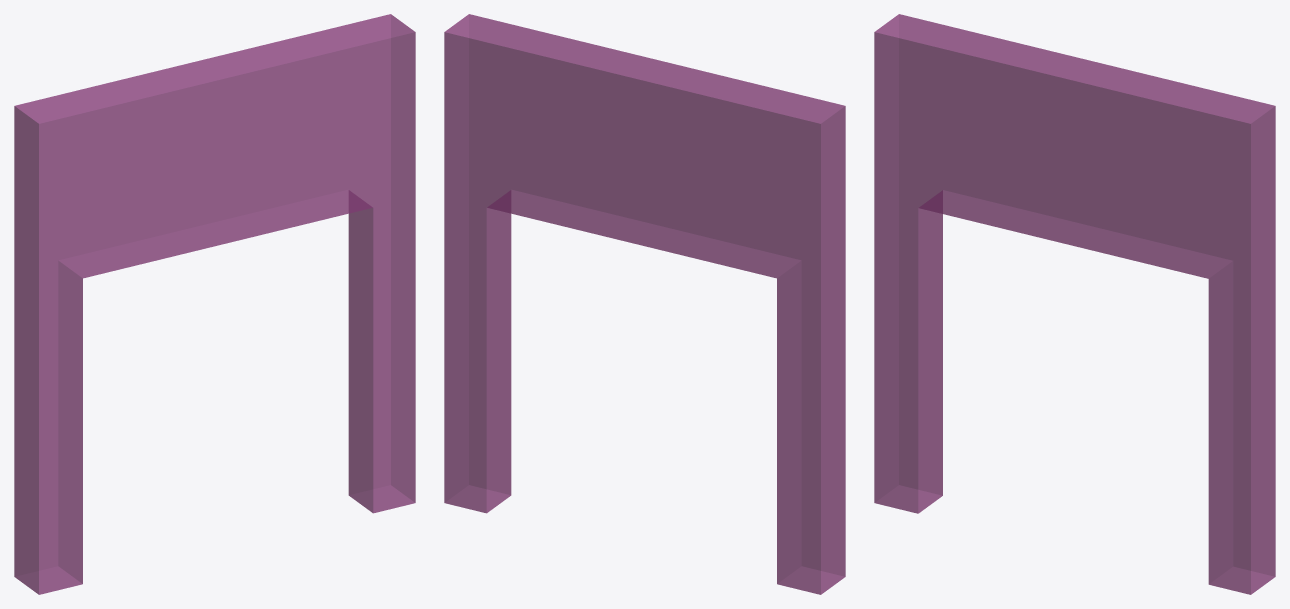
Rendered from SM_Bld_Base_Wall_Door_Double_01_Collision.fbx.
3 renders of one model, left to right at view 1: azimuth 30°, elevation 25°; view 2: azimuth 150°, elevation 25°; view 3: azimuth 330°, elevation 25°, orthographic.
Parts seen in each view (by area): view 1: SM_Bld_Base_Wall_Door_Double_01_Collision; view 2: SM_Bld_Base_Wall_Door_Double_01_Collision; view 3: SM_Bld_Base_Wall_Door_Double_01_Collision.
Part boxes in pixels (left/top/right/bottom): SM_Bld_Base_Wall_Door_Double_01_Collision: left=14, top=14, right=415, bottom=594; SM_Bld_Base_Wall_Door_Double_01_Collision: left=444, top=14, right=845, bottom=594; SM_Bld_Base_Wall_Door_Double_01_Collision: left=874, top=14, right=1275, bottom=594.
Bounding box in the file's own units: 254 × 304 × 28.91.
